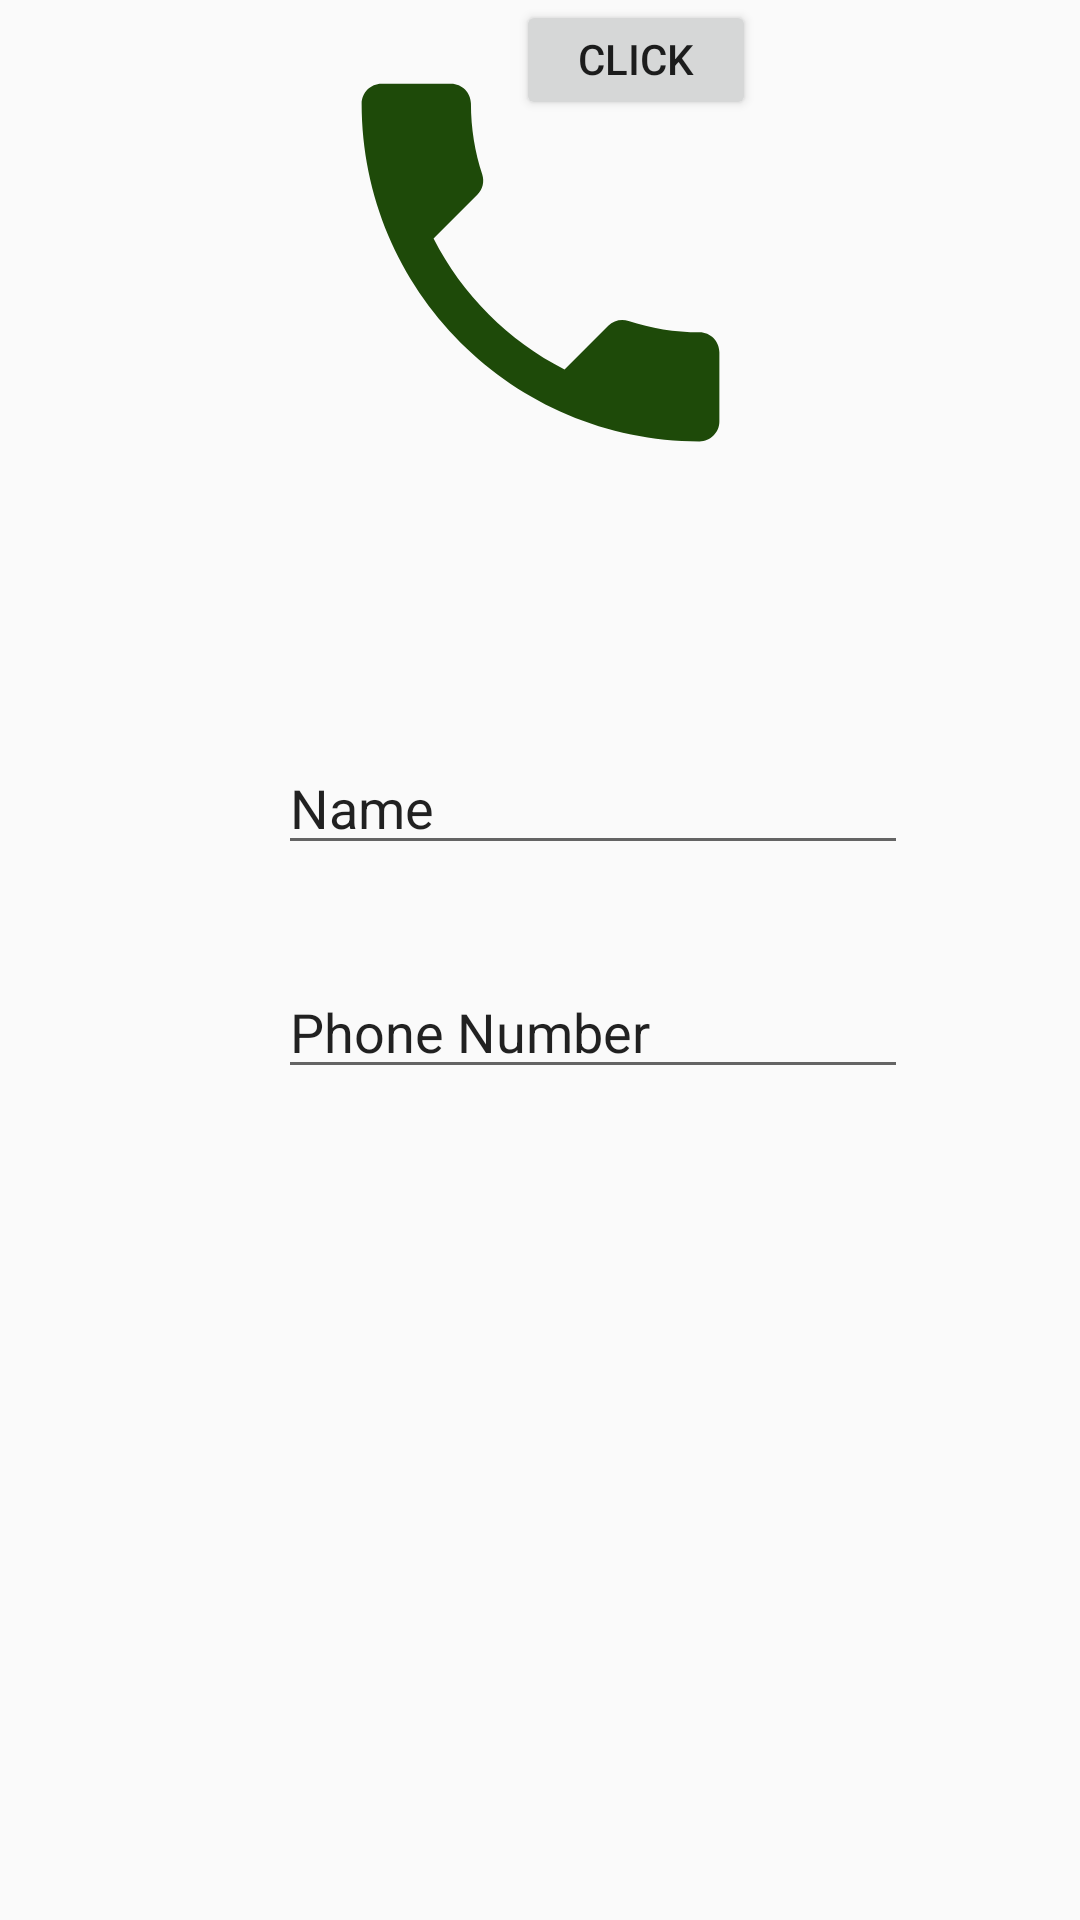

Named icons in this screenshot (1080×1920) and their bounding boxes, (x1=x1, y1=y1, x2=x2, y2=y2):
local phone: (x1=361, y1=83, x2=720, y2=442)
